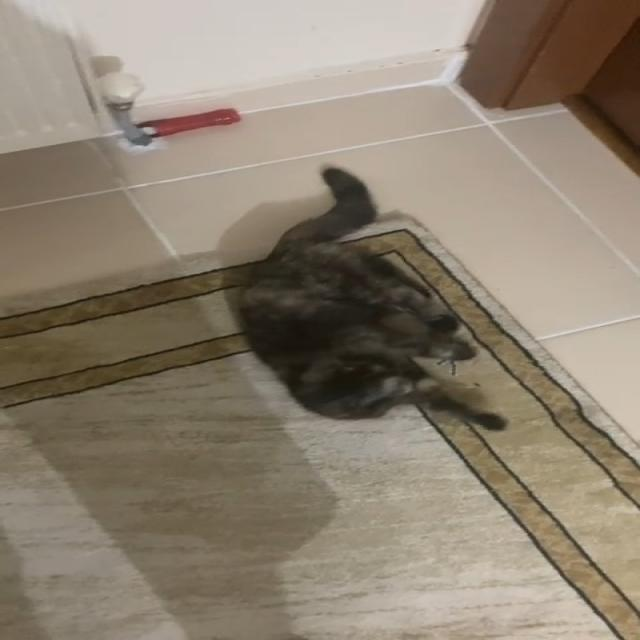authorized: (228, 164, 508, 431)
